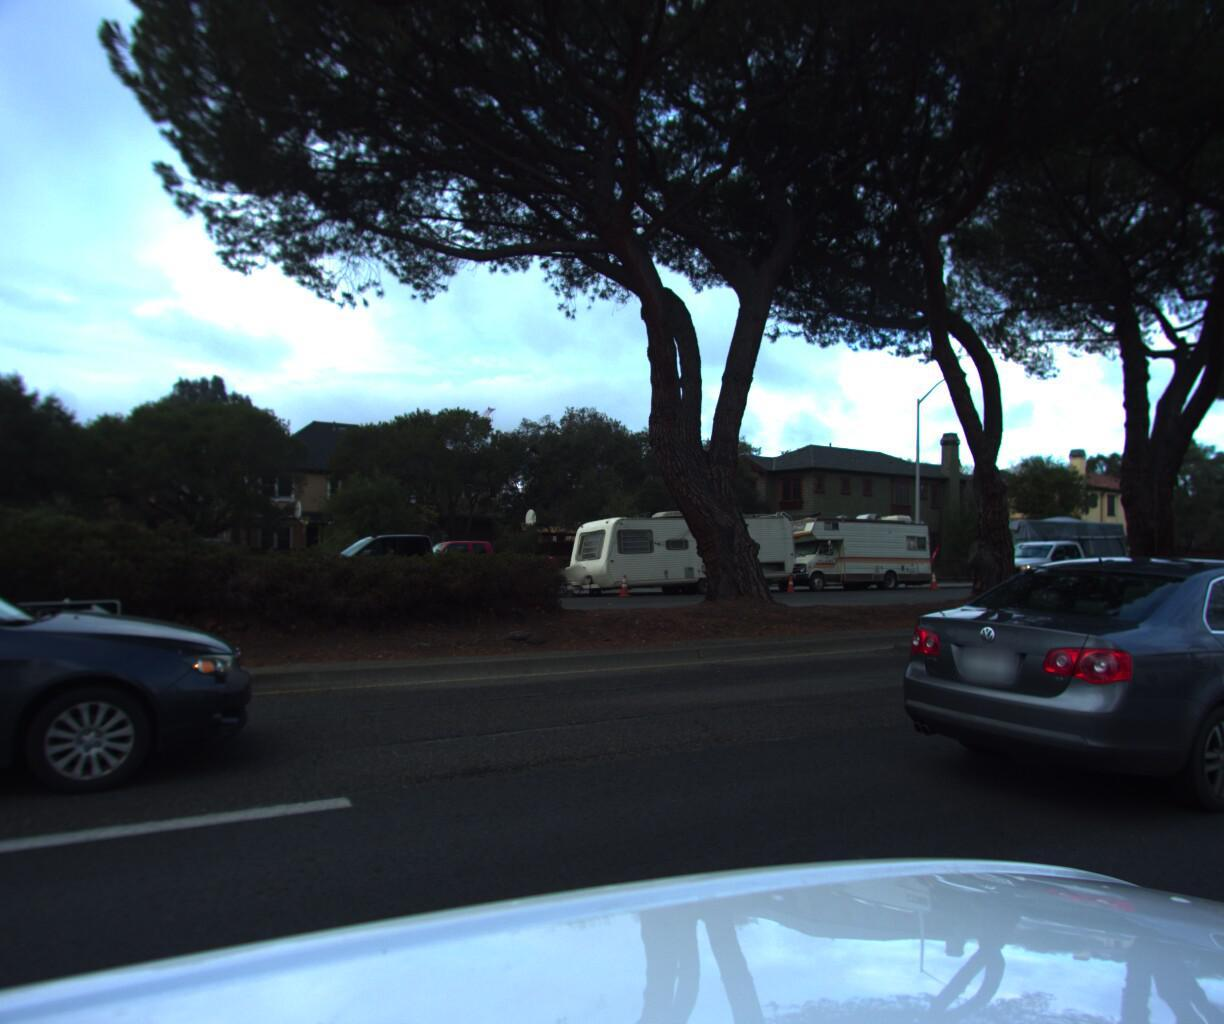car: (860, 553, 1224, 855), (0, 524, 287, 901), (360, 536, 569, 606), (300, 531, 475, 608), (971, 527, 1137, 595), (114, 536, 268, 608), (0, 522, 93, 624), (1200, 553, 1224, 579)
other_vehicle: (558, 498, 803, 597), (761, 504, 942, 594), (966, 506, 1133, 586)
